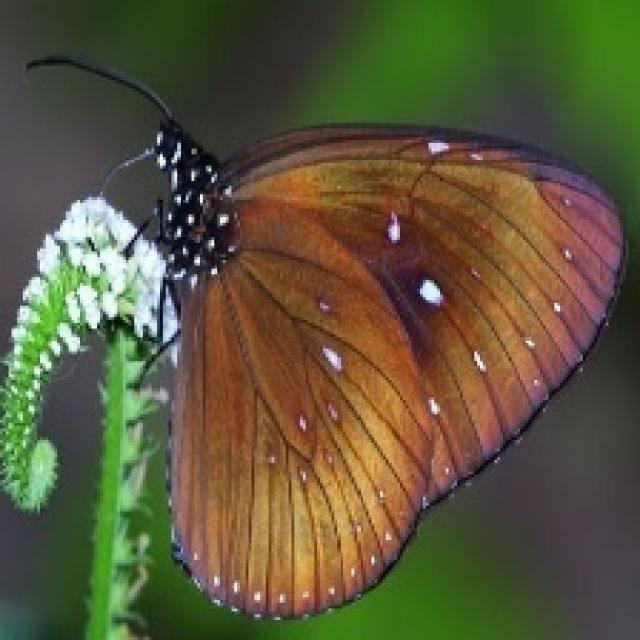butterfly: (23, 49, 628, 620)
